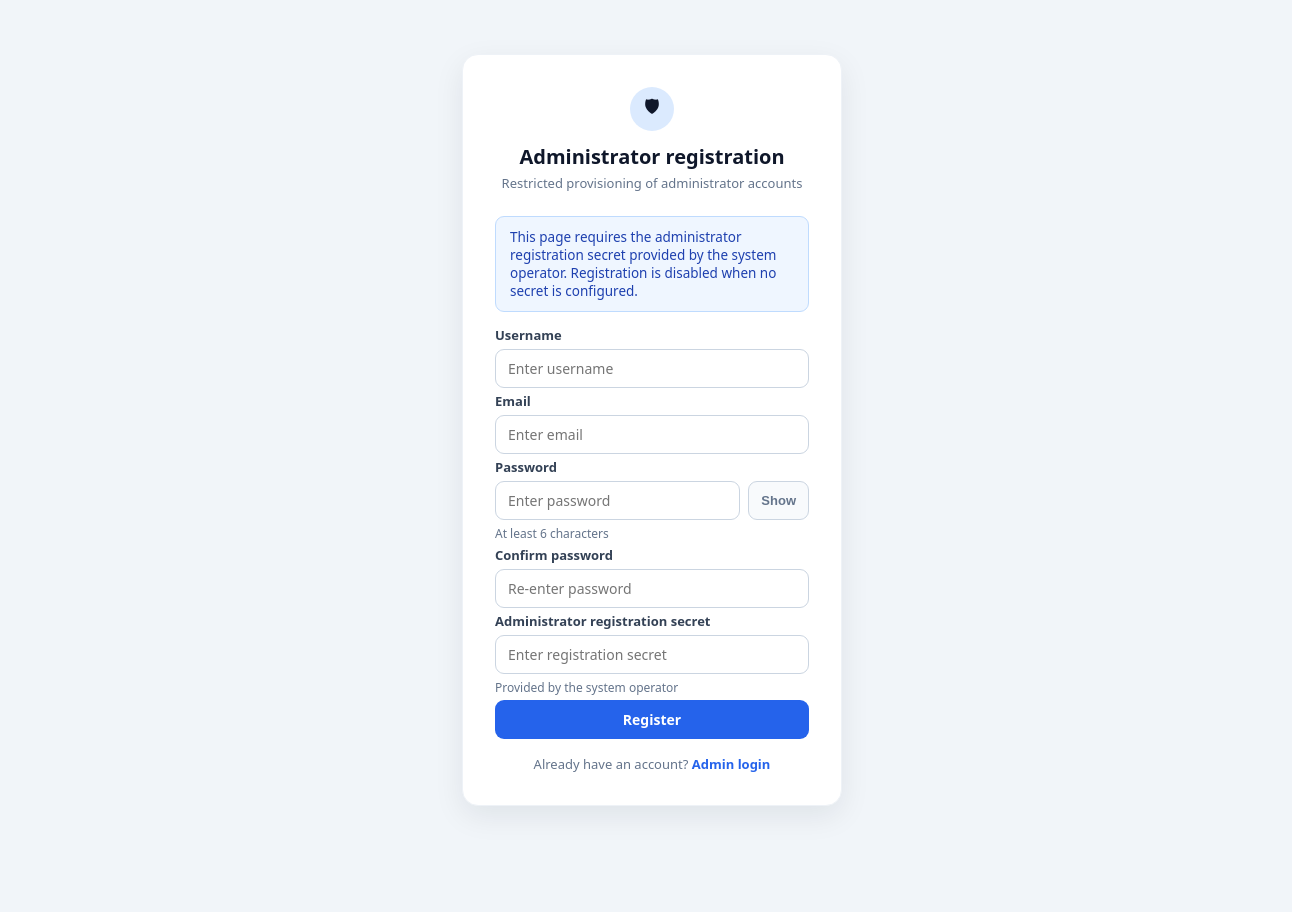
Test case: RegisterAdmin page › redirects to the admin login after registering
In the field labelled "Username": {"x": 652, "y": 368} left=495, top=349, right=809, bottom=388, type "New Admin"
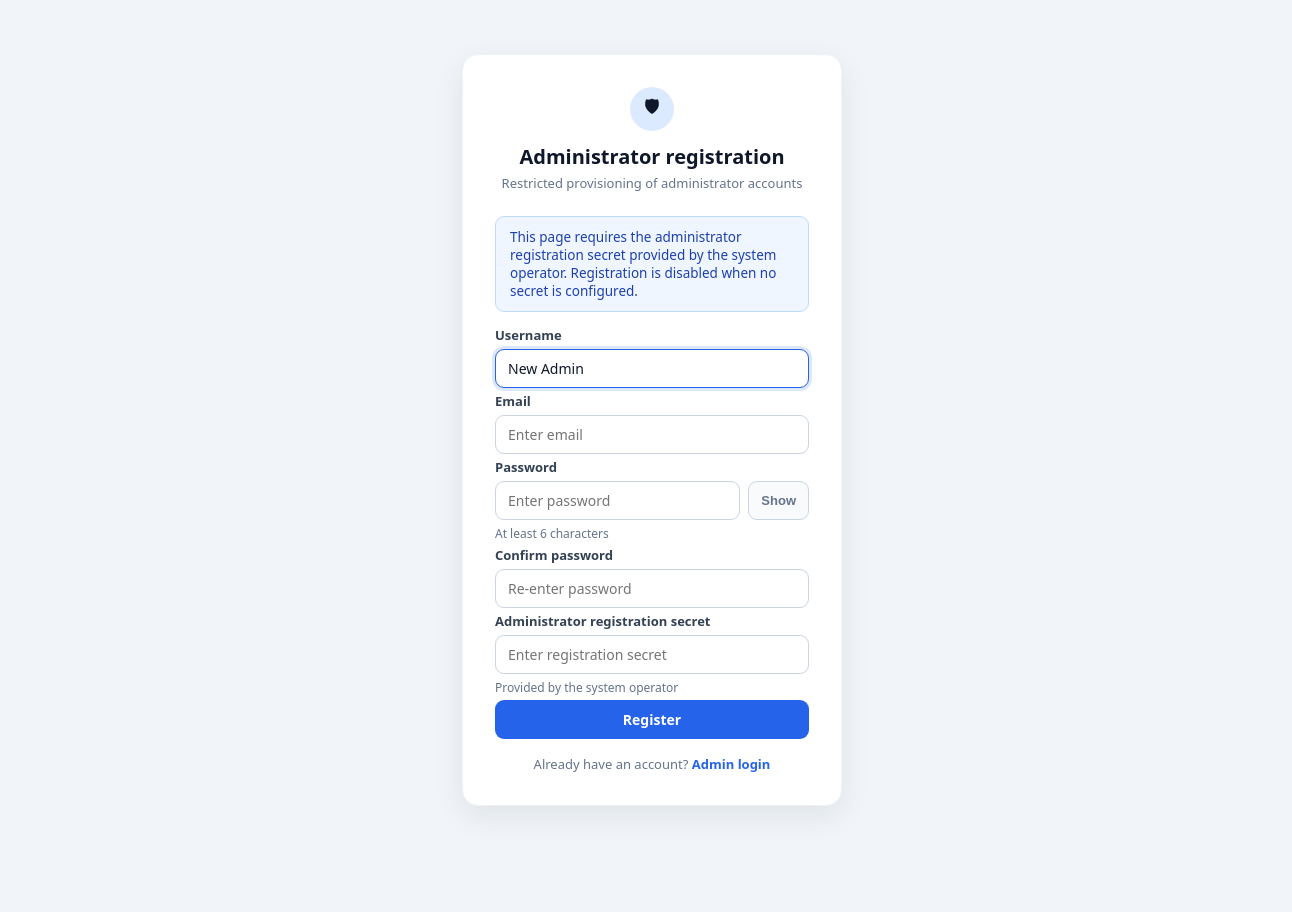
In the field labelled "Email": {"x": 652, "y": 434} left=495, top=415, right=809, bottom=454, type "admin2@example.com"
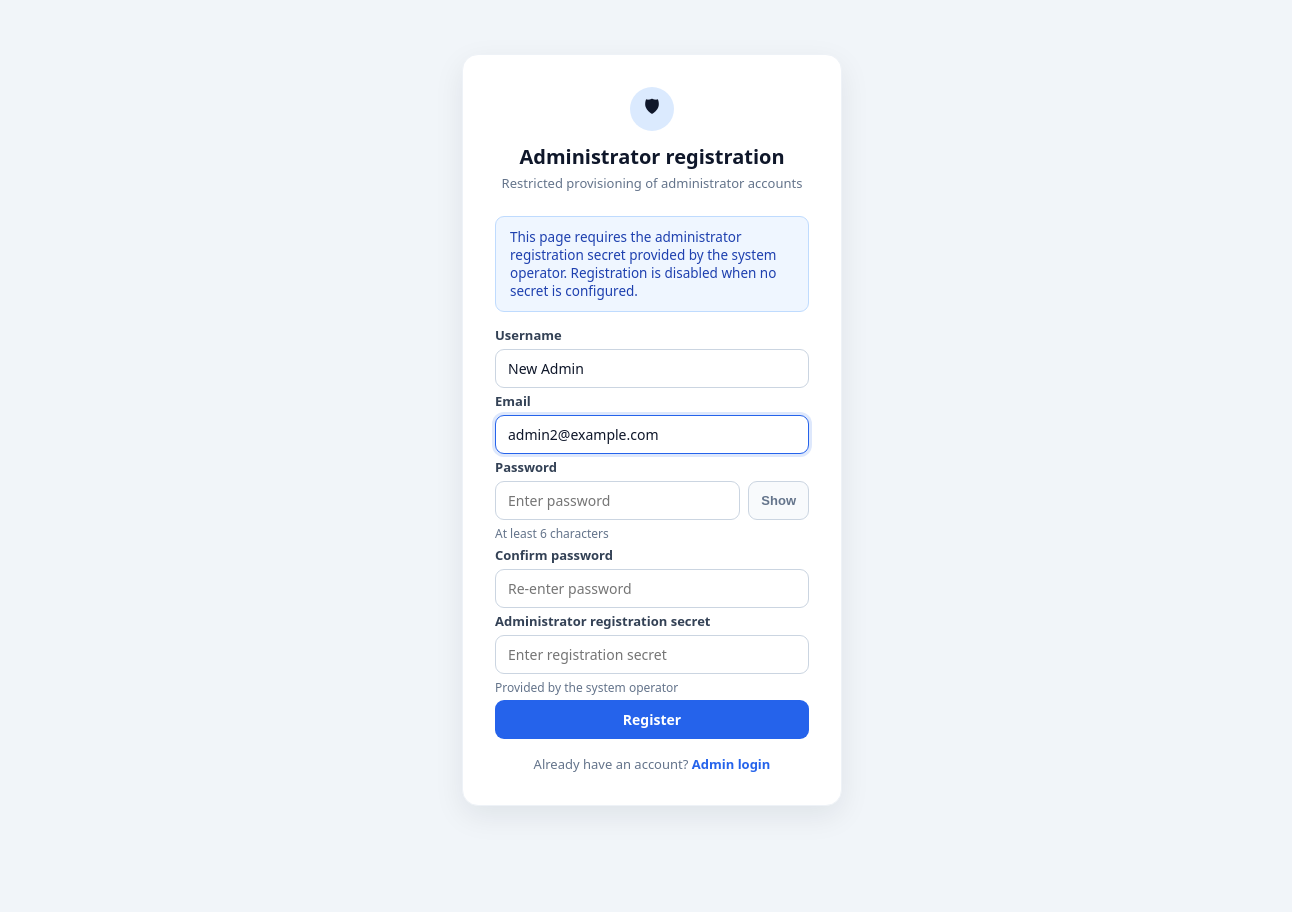
In the password field labelled "Password": {"x": 618, "y": 500} left=495, top=481, right=740, bottom=520, type "adminpassword"
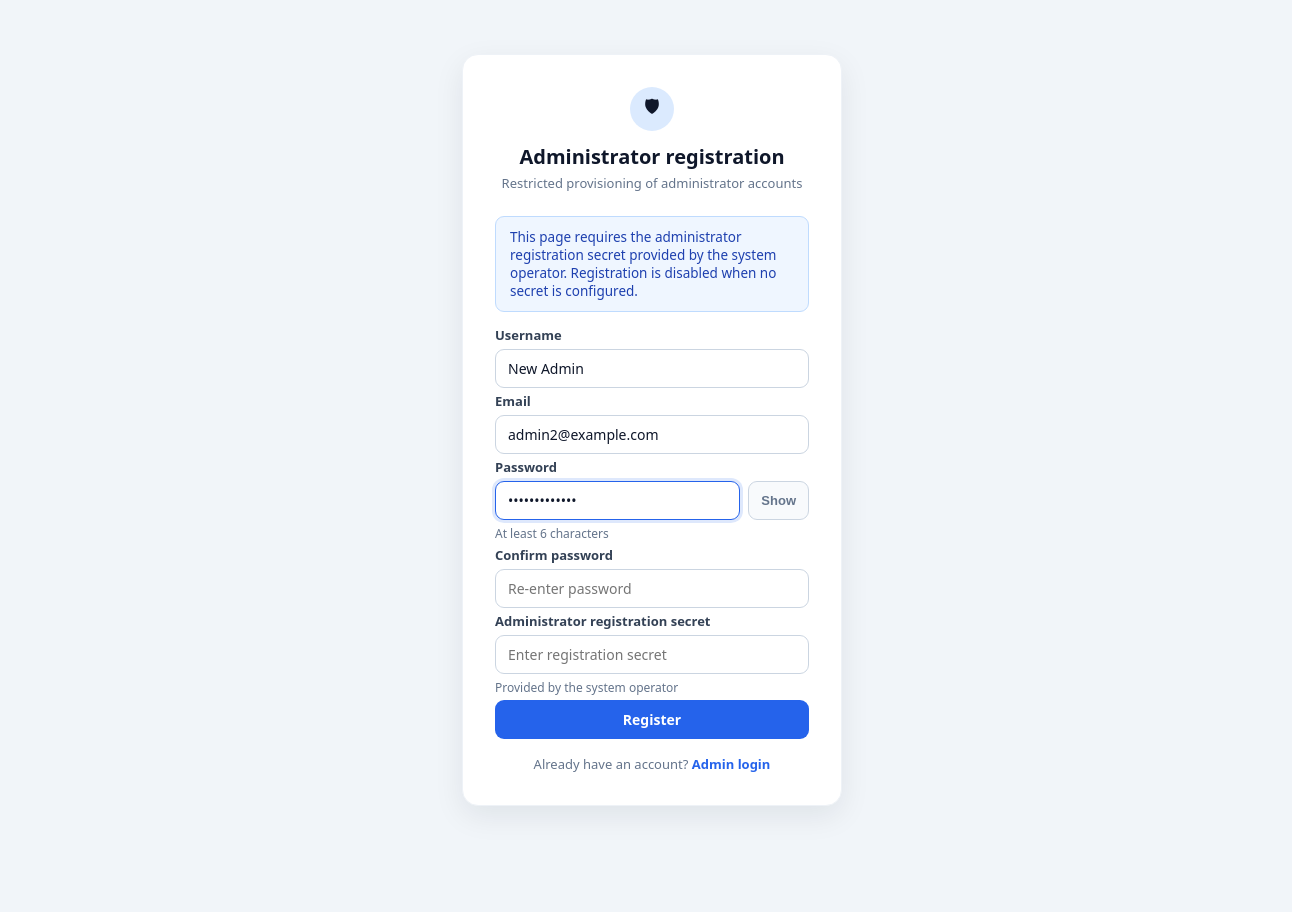
In the password field labelled "Confirm password": {"x": 652, "y": 588} left=495, top=569, right=809, bottom=608, type "adminpassword"
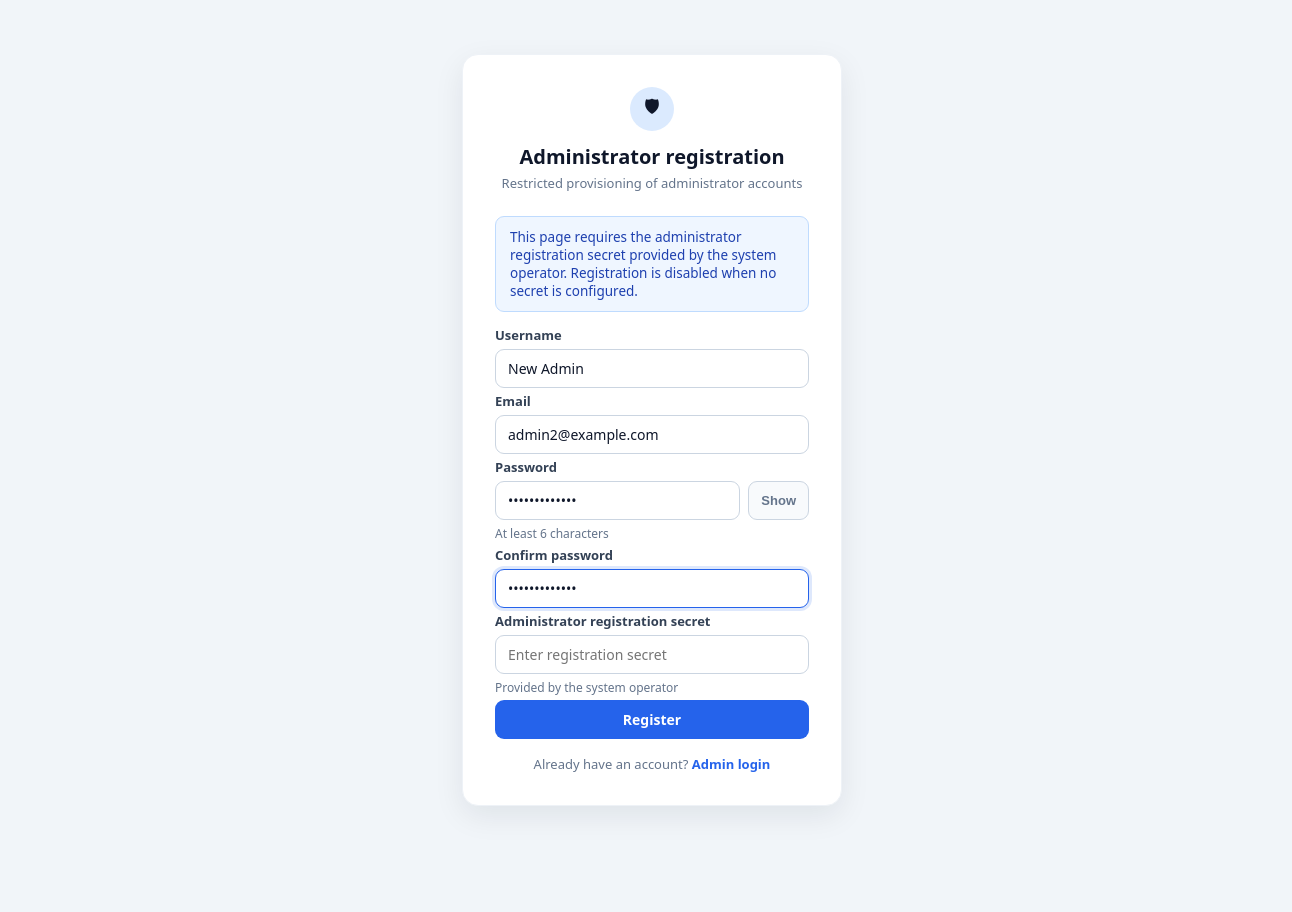
In the password field labelled "Administrator registration secret": {"x": 652, "y": 654} left=495, top=635, right=809, bottom=674, type "test-admin-secret"
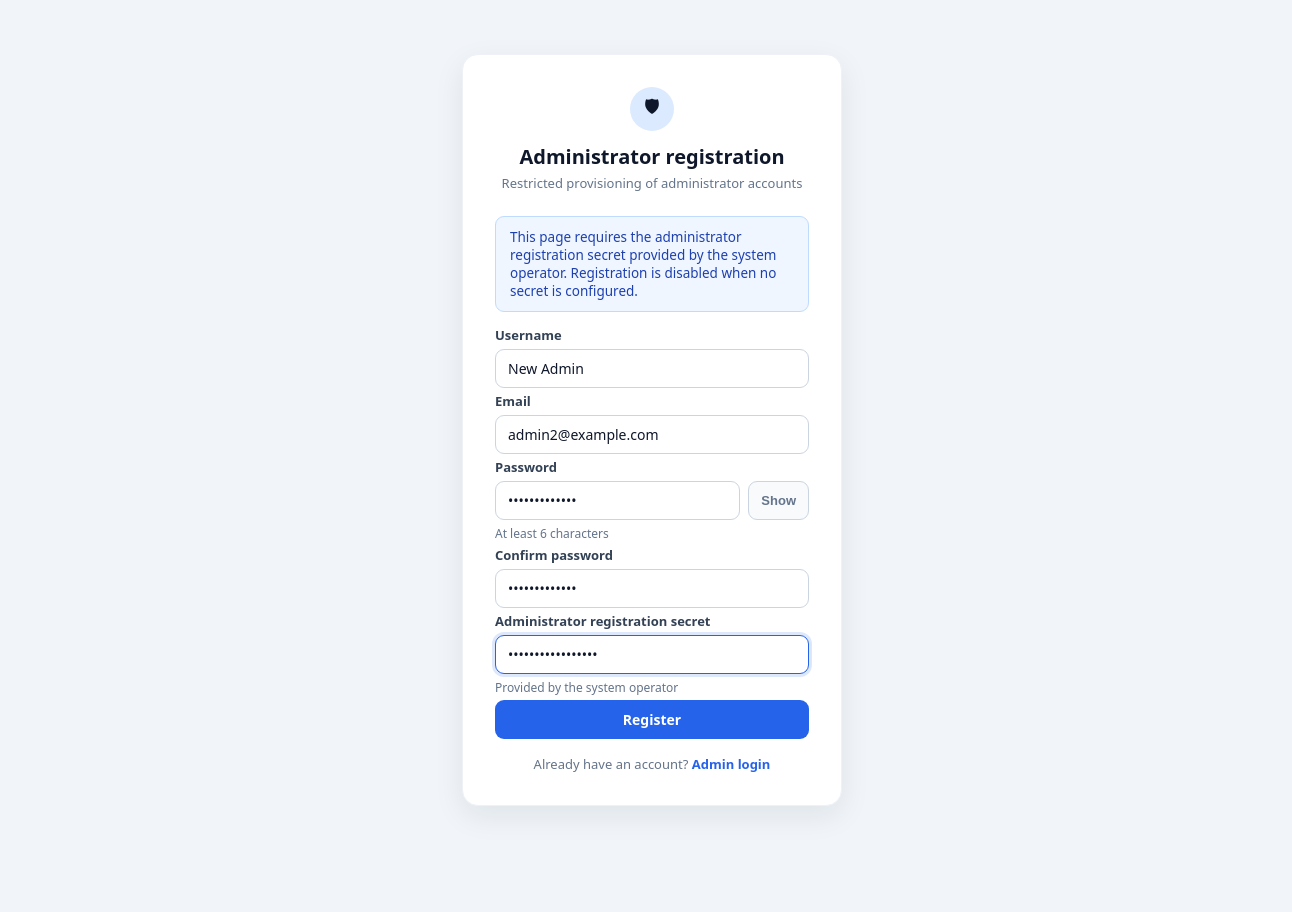
Click the button "Register": {"x": 652, "y": 720} left=495, top=700, right=809, bottom=739
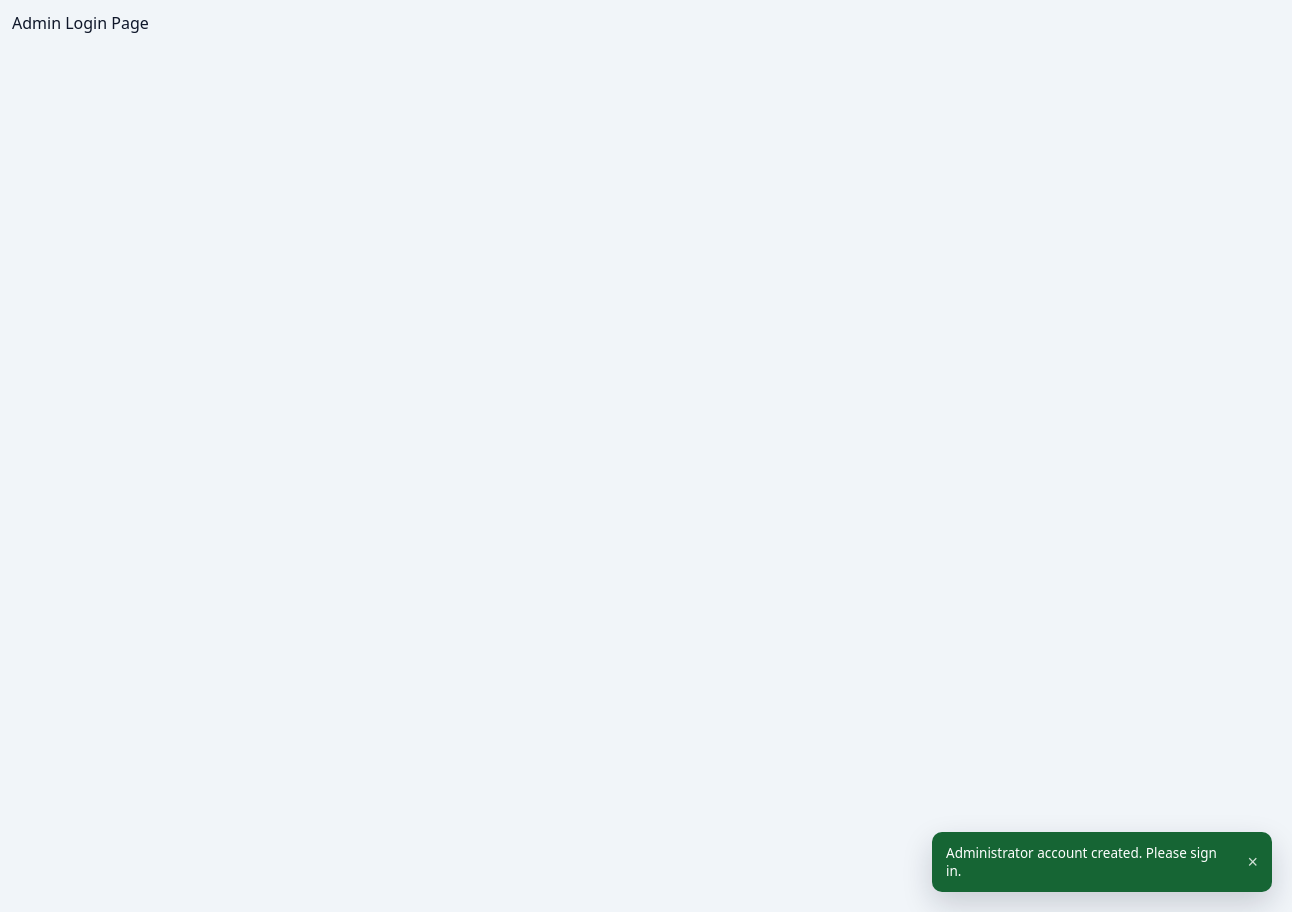
Expected: the text "Admin Login Page" is shown, left=12, top=12, right=149, bottom=34
